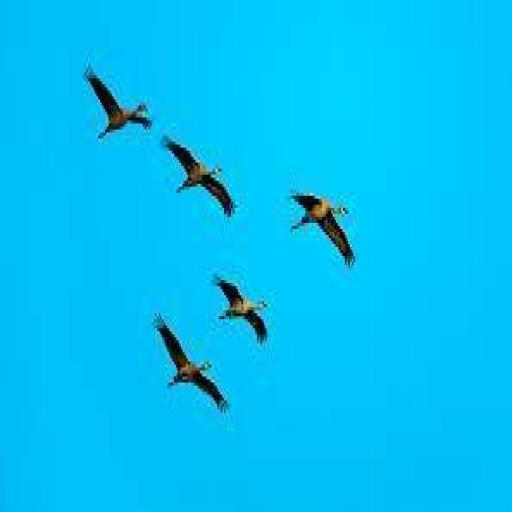bird: (152, 312, 231, 413), (166, 140, 237, 217), (84, 70, 152, 141), (290, 195, 355, 265), (218, 279, 268, 344)
